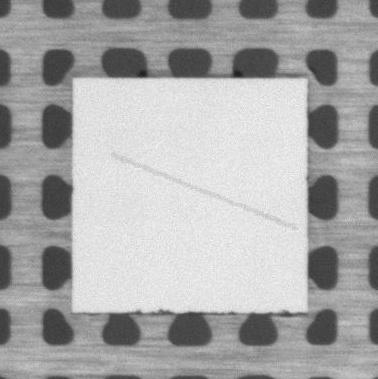DIE_CRACK: (113, 155, 295, 229)
